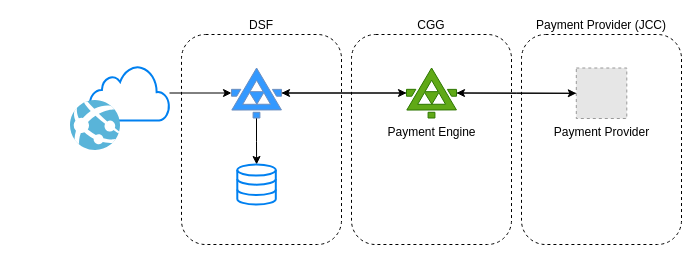
Some shapes in this 699 by 262 pixel diagram are drawn without their labels. Grey dashed boxes stand in for pictures. Here are the shapes that lost their labels. From the top down, the centre of each, then its label:
At [256,92]: "DSF Payment Broker".
At [95,125]: "DSF Service (payment client)".
At [256,184]: "Transactions Store".
